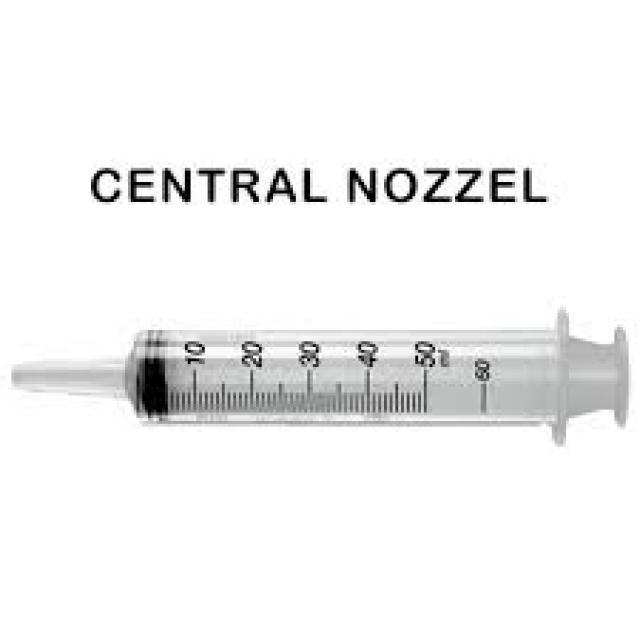syringe: (33, 291, 619, 470)
